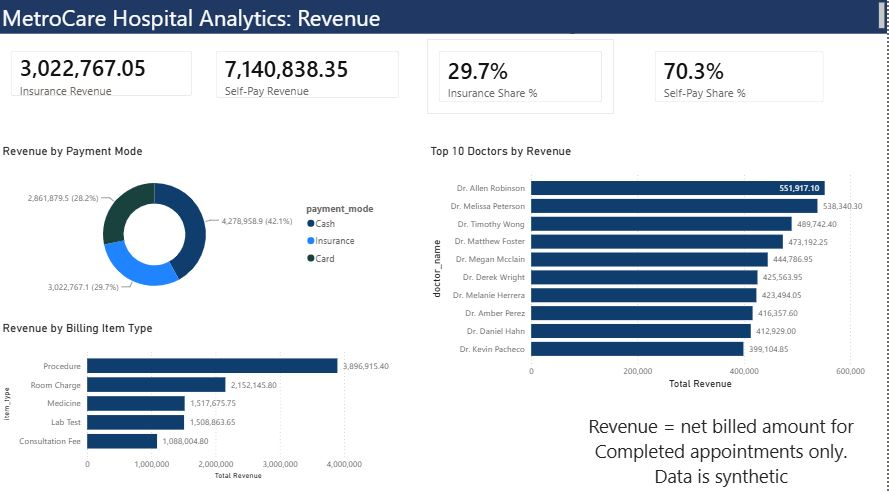

Layout of this report page (visuals, bound fields, positions):
{"tool":"powerbi","page":{"name":"Revenue","canvas":[1280,720],"ordinal":1},"visuals":[{"type":"cardVisual","fields":{"Data":["Appointments.Insurance Revenue"]},"box":[0,67.7,295.2,99.4],"z":0},{"type":"cardVisual","fields":{"Data":["Appointments.Self-Pay Revenue"]},"box":[295.2,67.7,298.1,102.2],"z":1000},{"type":"cardVisual","fields":{"Data":["Appointments.Insurance Share %"]},"box":[616.3,67.7,269.3,108],"z":2000},{"type":"cardVisual","fields":{"Data":["Appointments.Self-Pay Share %"]},"box":[927.4,67.7,277.9,108],"z":3000},{"type":"donutChart","title":"Revenue by Payment Mode","fields":{"Y":["Appointments.Total Revenue"],"Category":["Appointments.payment_mode"]},"box":[0,218.9,561.6,230.4],"z":4000},{"type":"clusteredBarChart","title":"Revenue by Billing Item Type","fields":{"Category":["BillingItems.item_type"],"Y":["Appointments.Total Revenue"]},"box":[0,473.8,593.3,233.3],"z":5000},{"type":"clusteredBarChart","title":"Top 10 Doctors by Revenue","fields":{"Category":["Doctors.doctor_name"],"Y":["Appointments.Total Revenue"]},"box":[616.5,218.9,663.5,357.8],"z":6000},{"type":"textbox","box":[0,10,1280,50.4],"z":6001},{"type":"textbox","box":[840,600,400.3,121],"z":6003}]}

Visuals, with their boxes in screenshot pixels (x1, y1, x2, y2), scaled from the page's 1280x720 canvas onto the 889x492 screenshot:
cardVisual - Appointments.Insurance Revenue: 0, 46, 205, 114
cardVisual - Appointments.Self-Pay Revenue: 205, 46, 412, 116
cardVisual - Appointments.Insurance Share %: 428, 46, 615, 120
cardVisual - Appointments.Self-Pay Share %: 644, 46, 837, 120
"Revenue by Payment Mode" donutChart: 0, 150, 390, 307
"Revenue by Billing Item Type" clusteredBarChart: 0, 324, 412, 483
"Top 10 Doctors by Revenue" clusteredBarChart: 428, 150, 888, 394
textbox: 0, 7, 888, 41
textbox: 583, 410, 861, 491
